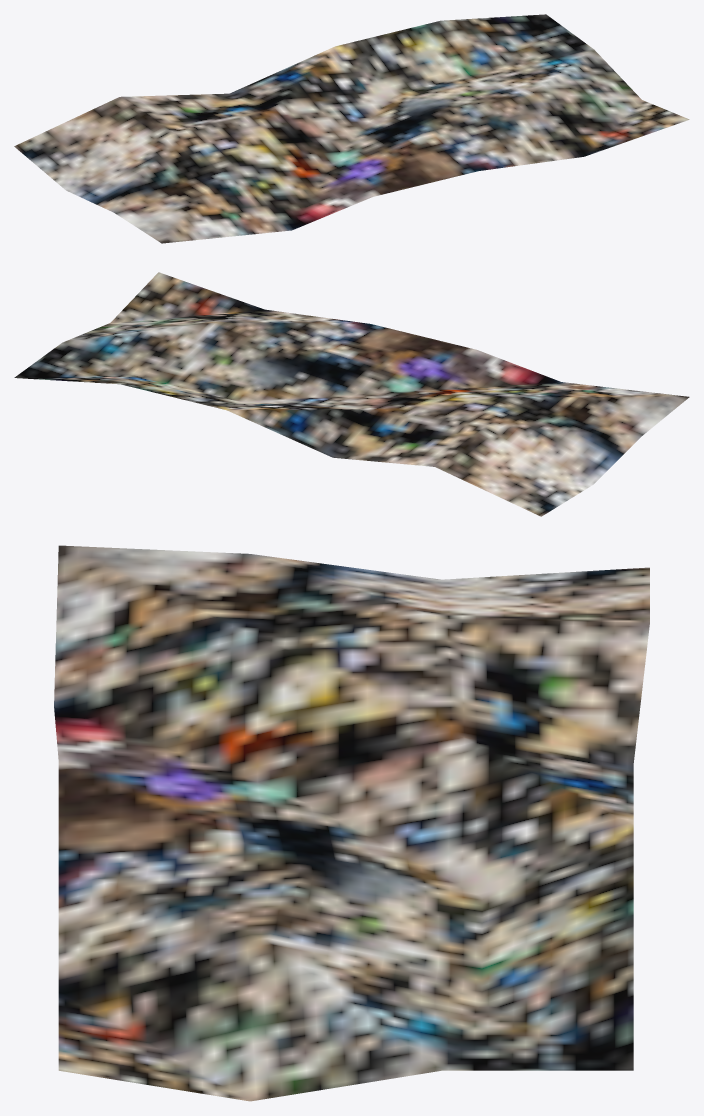
File: dumpstertrash.glb
The picture shows the model from 3 angles, top to bottom: view 1: azimuth 30°, elevation 25°; view 2: azimuth 150°, elevation 25°; view 3: azimuth 270°, elevation 25°; orthographic projection. The views are drawn at different scales.
Parts seen in each view (by area): view 1: DumpsterTrash; view 2: DumpsterTrash; view 3: DumpsterTrash.
Boxes of the visible parts, x1,y1,x2,y2 form: DumpsterTrash: [14, 14, 689, 243]; DumpsterTrash: [14, 272, 689, 516]; DumpsterTrash: [54, 545, 649, 1101].
Bounding box in the file's own units: 1.6 × 0.1009 × 0.7818.
1 material, 1 textured.
